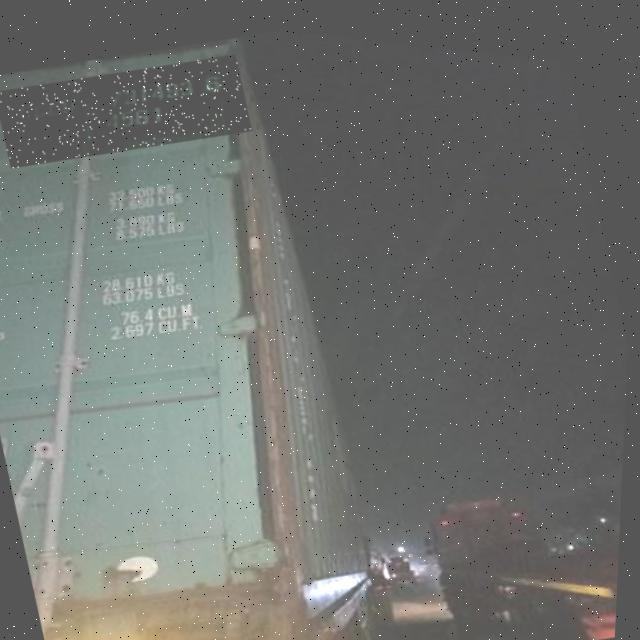container_number_h: (0, 28, 255, 188)
